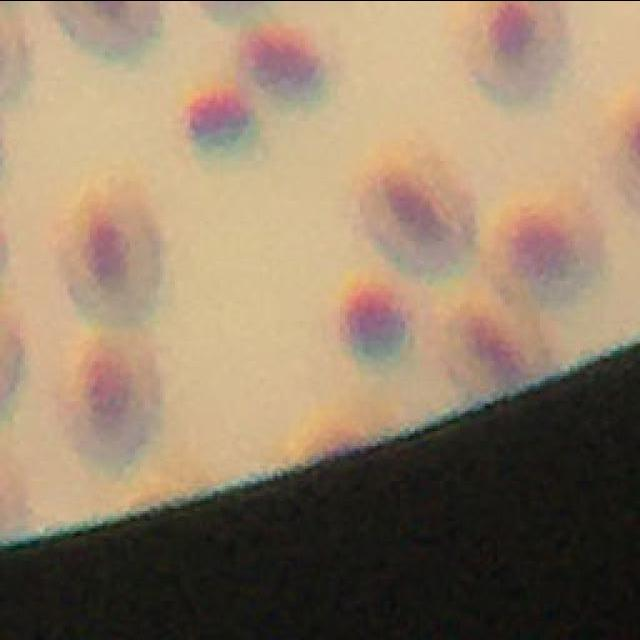RBC: (347, 137, 480, 282), (478, 184, 608, 311), (57, 326, 166, 477), (59, 180, 164, 326), (424, 281, 550, 397), (458, 0, 571, 113)
WBC: (238, 19, 322, 103), (344, 286, 406, 361), (180, 88, 254, 144)
